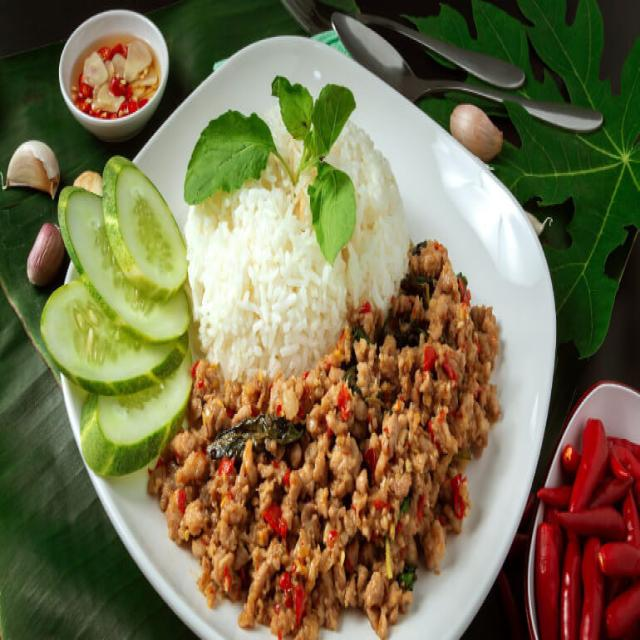Carbohydrate: (180, 122, 410, 377)
Kaow-Padkrapao: (37, 31, 561, 640)
Protein: (141, 233, 502, 640)
Vegetable: (41, 150, 192, 471), (185, 71, 359, 265)
